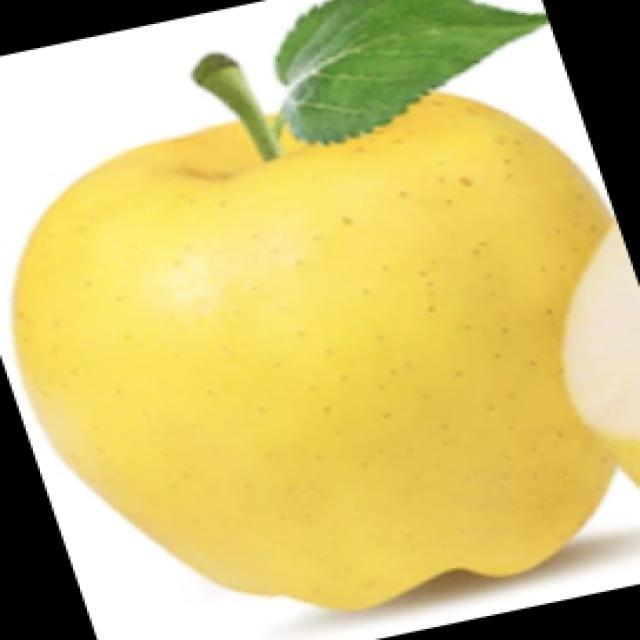Fresh Apple: (8, 90, 610, 628)
